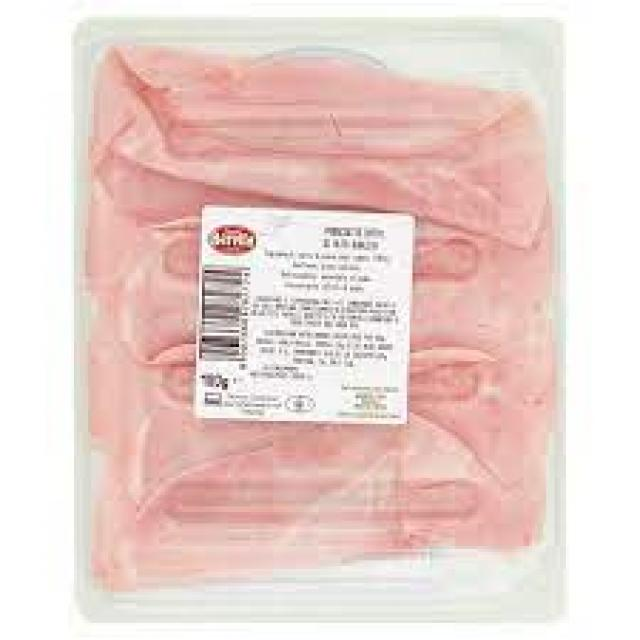ham: (57, 9, 577, 628)
